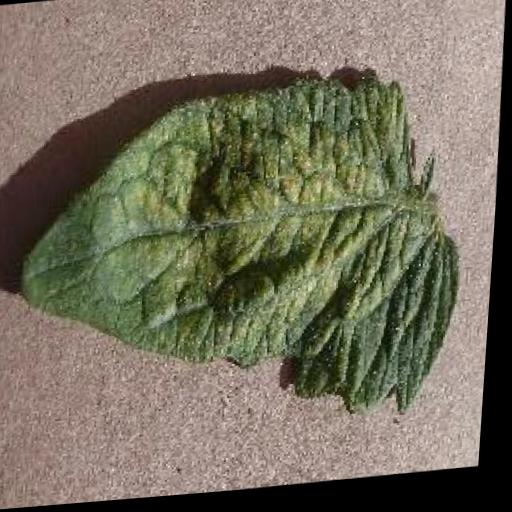Spider Mites: (12, 65, 481, 454)
